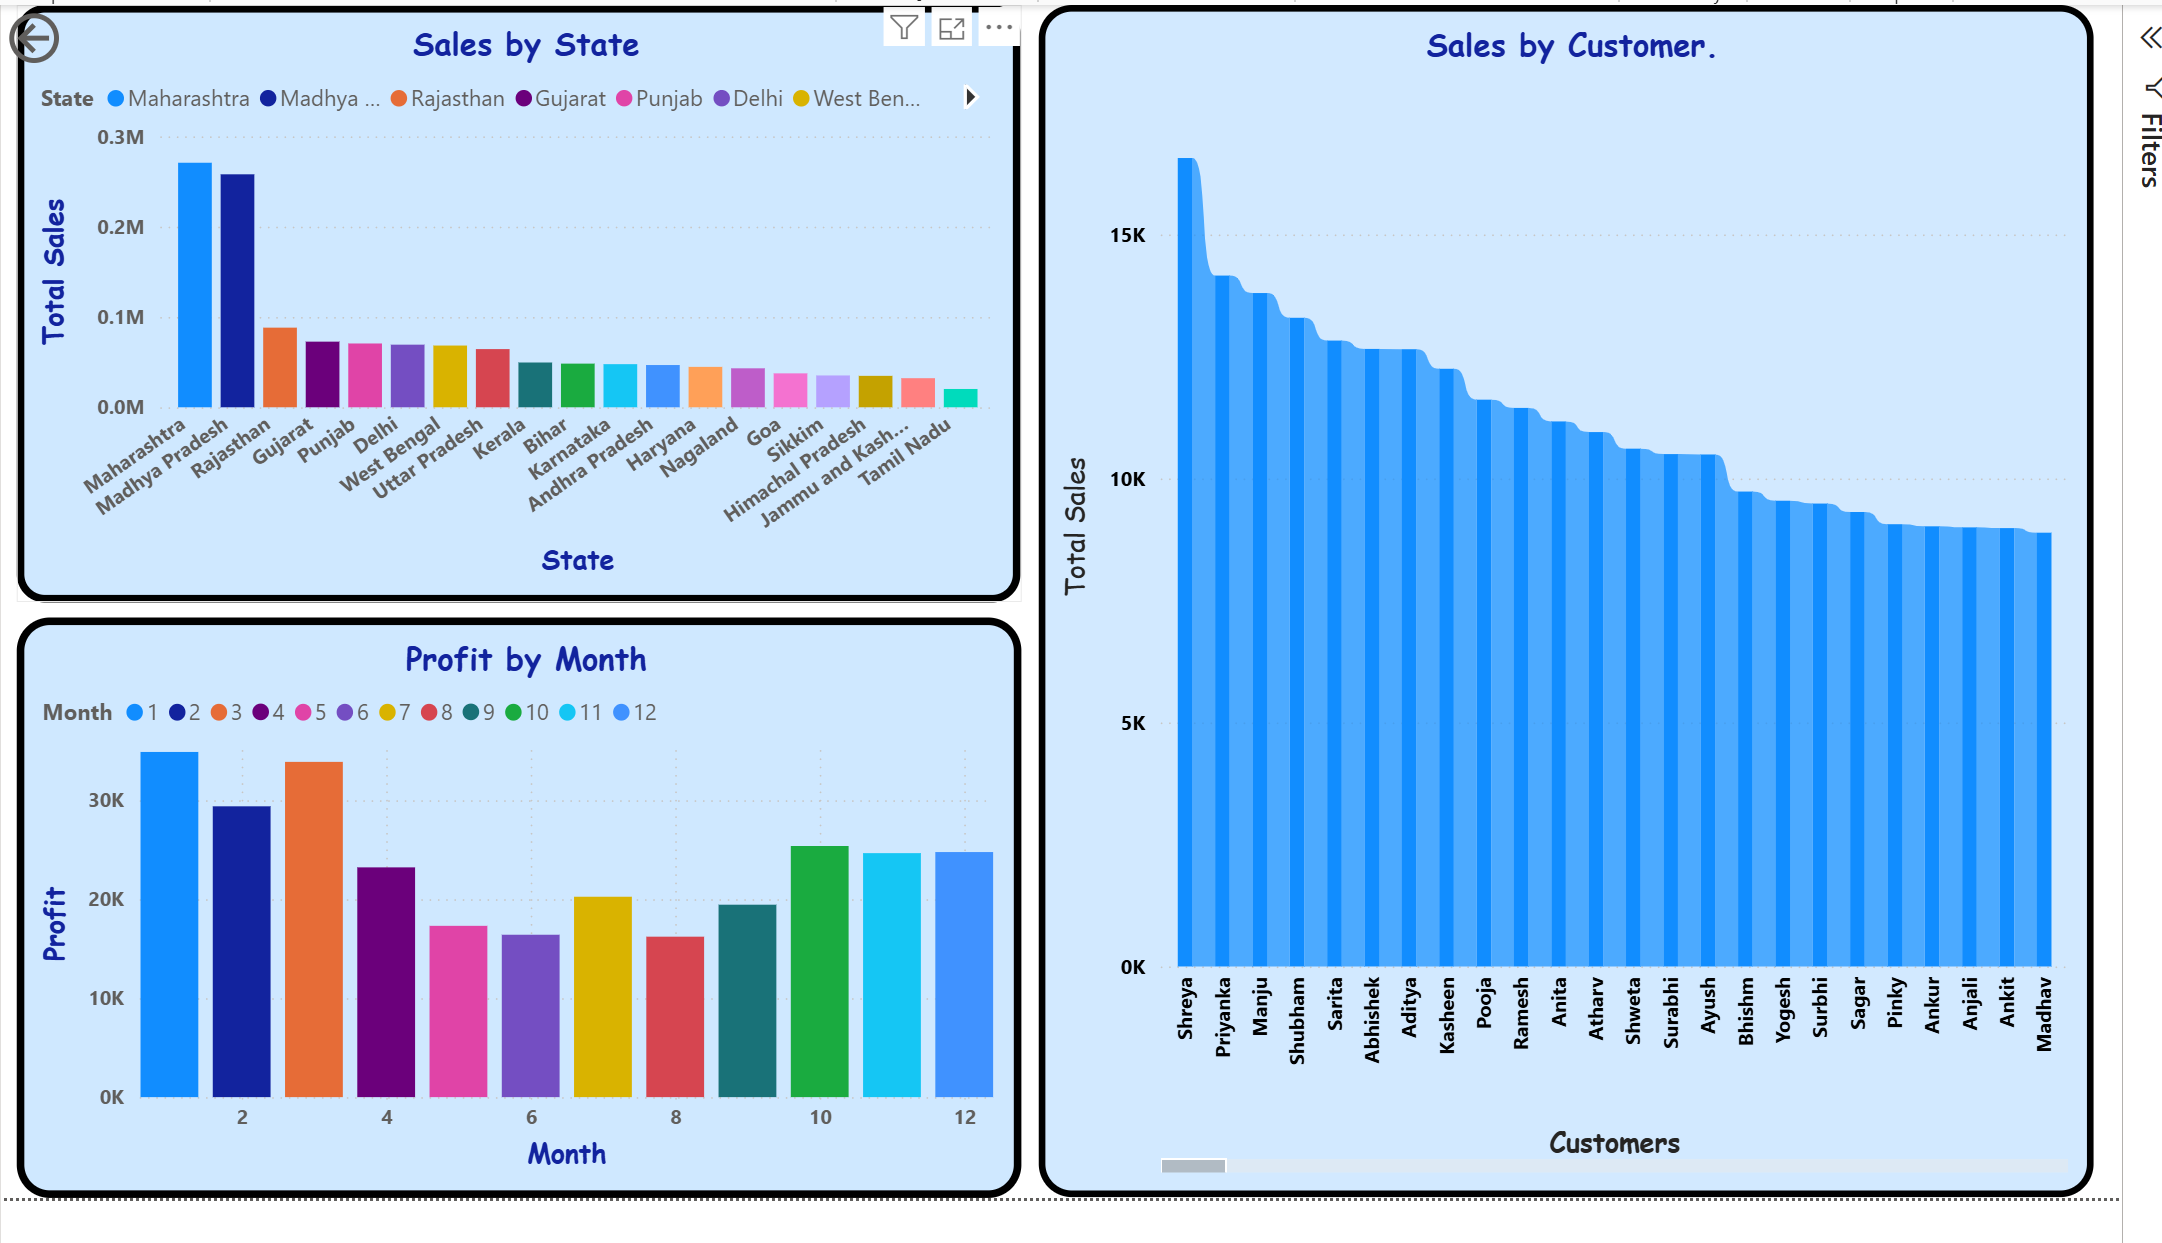

This screenshot's page, from the dashboard's own definition file:
{"tool":"powerbi","page":{"name":"More Insights","canvas":[1280,720],"ordinal":1},"visuals":[{"type":"columnChart","title":"Sales by State","fields":{"Y":["Sum(Orders_Enriched.Amount)"],"Category":["Orders_Enriched.State"],"Series":["Orders_Enriched.State"]},"box":[9.8,0,605.7,360.5],"z":0},{"type":"columnChart","title":"Profit by Month","fields":{"Y":["Sum(Orders_Enriched.Profit)"],"Category":["Orders_Enriched.Month"],"Series":["Orders_Enriched.Month"]},"box":[10,370,606,350],"z":1},{"type":"ribbonChart","title":"Sales by Customer.","fields":{"Y":["Sum(Orders_Enriched.Amount)"],"Category":["Orders_Enriched.CustomerName"]},"box":[626.5,0,636.3,719.7],"z":2},{"type":"actionButton","box":[0,0,100,40],"z":3}]}

Visuals, with their boxes in screenshot pixels (x1, y1, x2, y2):
"Sales by State" columnChart: <box>5,0,1014,600</box>
"Profit by Month" columnChart: <box>5,616,1015,1199</box>
"Sales by Customer." ribbonChart: <box>1032,0,2092,1199</box>
actionButton: <box>0,0,155,67</box>
